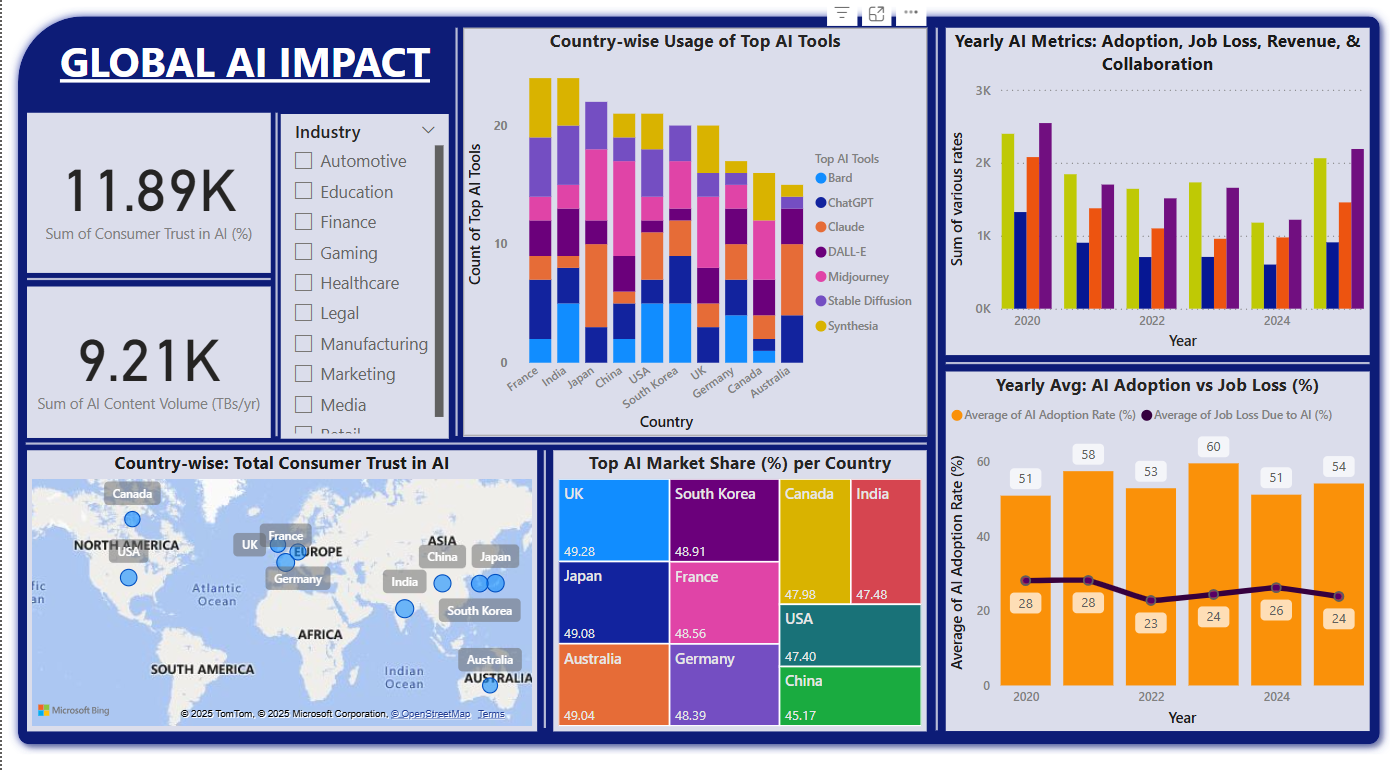

This screenshot's page, from the dashboard's own definition file:
{"tool":"powerbi","page":{"name":"Page 1","canvas":[1280,720],"ordinal":0},"visuals":[{"type":"shape","box":[5.7,16.1,1269.3,686.9],"z":0},{"type":"columnChart","title":"Country-wise Usage of Top AI Tools","fields":{"Category":["Global_AI_Content_Impact_Datase.Country"],"Y":["CountNonNull(Global_AI_Content_Impact_Datase.Top AI Tools Used)"],"Series":["Global_AI_Content_Impact_Datase.Top AI Tools Used"]},"box":[423.9,35.6,426.2,375.6],"z":1000},{"type":"lineClusteredColumnComboChart","title":"Yearly Avg: AI Adoption vs Job Loss (%)","fields":{"Y":["Avg(Global_AI_Content_Impact_Datase.AI Adoption Rate (%))"],"Y2":["Avg(Global_AI_Content_Impact_Datase.Job Loss Due to AI (%))"],"Category":["Global_AI_Content_Impact_Datase.Year"]},"box":[867.7,351.2,389.5,330.8],"z":2000},{"type":"shape","box":[867.7,336.8,389.5,14.4],"z":3000},{"type":"shape","box":[849.7,36,18,646],"z":4000},{"type":"clusteredColumnChart","title":"Yearly AI Metrics: Adoption, Job Loss, Revenue, & Collaboration","fields":{"Y":["Sum(Global_AI_Content_Impact_Datase.AI Adoption Rate (%))","Sum(Global_AI_Content_Impact_Datase.Job Loss Due to AI (%))","Sum(Global_AI_Content_Impact_Datase.Revenue Increase Due to AI (%))","Sum(Global_AI_Content_Impact_Datase.Human-AI Collaboration Rate (%))"],"Category":["Global_AI_Content_Impact_Datase.Year"]},"box":[867.3,35.6,389.4,301],"z":5000},{"type":"slicer","fields":{"Values":["Global_AI_Content_Impact_Datase.Industry"]},"box":[256.5,115.1,154.6,298.4],"z":6000},{"type":"treemap","title":"Top AI Market Share (%) per Country","fields":{"Group":["Global_AI_Content_Impact_Datase.Country"],"Values":["Max(Global_AI_Content_Impact_Datase.Market Share of AI Companies (%))"]},"box":[506.6,423.9,343.5,258.5],"z":7000},{"type":"map","title":"Country-wise: Total Consumer Trust in AI  ","fields":{"Category":["Global_AI_Content_Impact_Datase.Country"],"Size":["Global_AI_Content_Impact_Datase.sumCT"]},"box":[23.1,424.2,468.9,258.3],"z":8000},{"type":"card","fields":{"Values":["Sum(Global_AI_Content_Impact_Datase.AI-Generated Content Volume (TBs per year))"]},"box":[22.8,273.3,224.1,139],"z":9000},{"type":"card","fields":{"Values":["Sum(Global_AI_Content_Impact_Datase.Consumer Trust in AI (%))"]},"box":[22.8,113.9,224.1,147.4],"z":10000},{"type":"textbox","box":[47.9,36,363.1,69.5],"z":11000},{"type":"shape","box":[21.6,411.2,828.1,13],"z":12000},{"type":"shape","box":[492,424.2,14.4,255.4],"z":13000},{"type":"shape","box":[411.2,36.1,13,375.1],"z":14000},{"type":"shape","box":[245.3,114,13,297.2],"z":16000},{"type":"shape","box":[23,259.6,224,13.8],"z":17000}]}

Visuals, with their boxes in screenshot pixels (x1, y1, x2, y2), scaled from the page's 1280x720 canvas onto the 1393x771 screenshot:
shape: BBox(6, 17, 1388, 753)
"Country-wise Usage of Top AI Tools" columnChart: BBox(461, 38, 925, 440)
"Yearly Avg: AI Adoption vs Job Loss (%)" lineClusteredColumnComboChart: BBox(944, 376, 1368, 730)
shape: BBox(944, 361, 1368, 376)
shape: BBox(925, 39, 944, 730)
"Yearly AI Metrics: Adoption, Job Loss, Revenue, & Collaboration" clusteredColumnChart: BBox(944, 38, 1368, 360)
slicer - Global_AI_Content_Impact_Datase.Industry: BBox(279, 123, 447, 443)
"Top AI Market Share (%) per Country" treemap: BBox(551, 454, 925, 731)
"Country-wise: Total Consumer Trust in AI  " map: BBox(25, 454, 535, 731)
card - Sum(Global_AI_Content_Impact_Datase.AI-Generated Content Volume (TBs per year)): BBox(25, 293, 269, 442)
card - Sum(Global_AI_Content_Impact_Datase.Consumer Trust in AI (%)): BBox(25, 122, 269, 280)
textbox: BBox(52, 39, 447, 113)
shape: BBox(24, 440, 925, 454)
shape: BBox(535, 454, 551, 728)
shape: BBox(448, 39, 462, 440)
shape: BBox(267, 122, 281, 440)
shape: BBox(25, 278, 269, 293)
